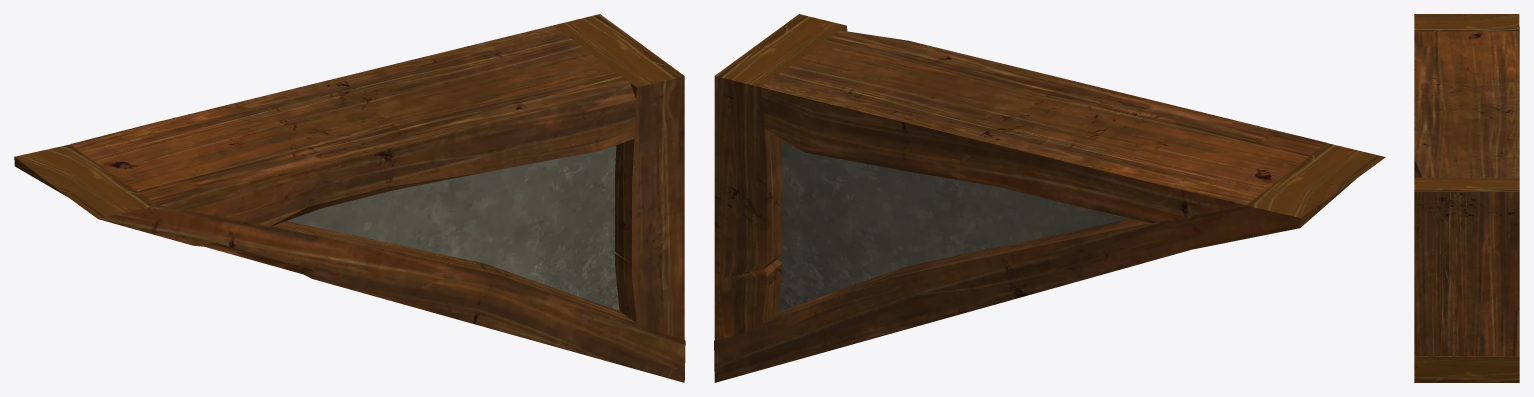
The picture shows the model from 3 angles, left to right: view 1: azimuth 30°, elevation 25°; view 2: azimuth 150°, elevation 25°; view 3: azimuth 270°, elevation 25°; orthographic projection. The views are drawn at different scales.
Visible parts, largest first — view 1: SM_BB_T2_Wall_Slanted_Shallow_Med_Inverted_LOD0; view 2: SM_BB_T2_Wall_Slanted_Shallow_Med_Inverted_LOD0; view 3: SM_BB_T2_Wall_Slanted_Shallow_Med_Inverted_LOD0.
Boxes of the visible parts, x1,y1,x2,y2 form: SM_BB_T2_Wall_Slanted_Shallow_Med_Inverted_LOD0: (14,14,685,382); SM_BB_T2_Wall_Slanted_Shallow_Med_Inverted_LOD0: (714,14,1385,382); SM_BB_T2_Wall_Slanted_Shallow_Med_Inverted_LOD0: (1414,14,1519,382).
Bounding box in the file's own units: 1.5 × 0.7514 × 0.375.
Materials: 2 (2 with a texture image).
